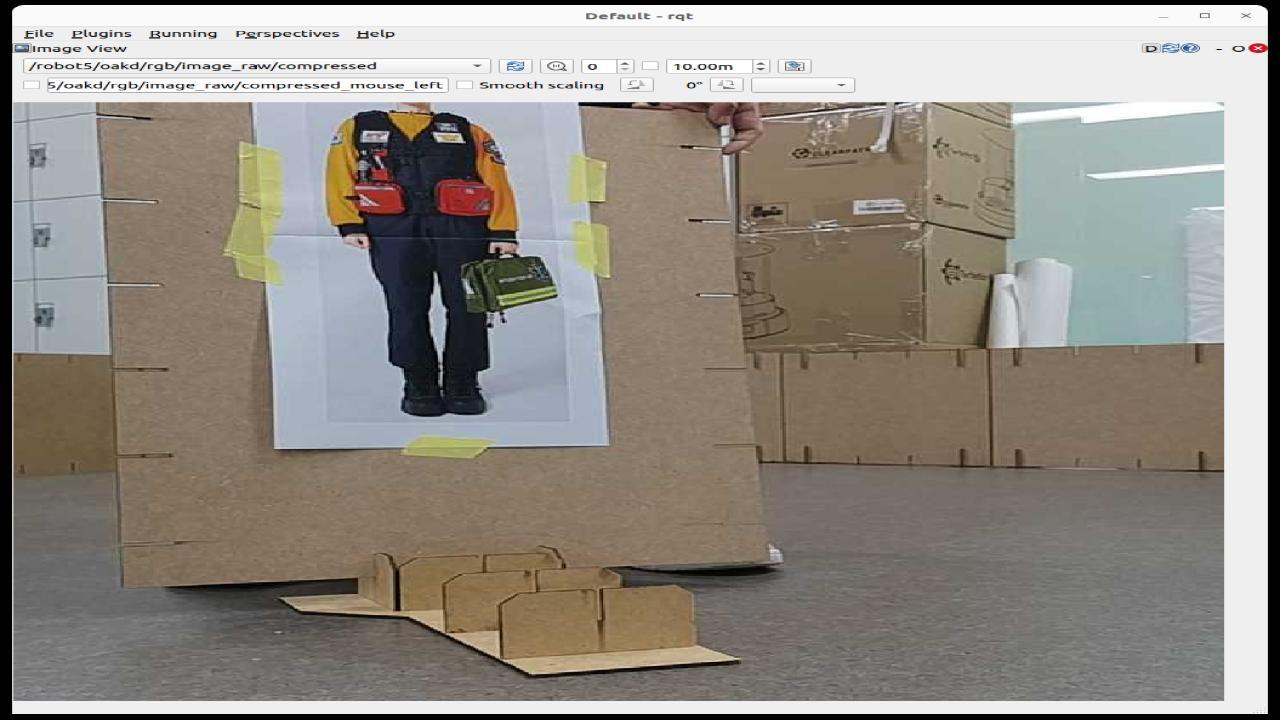Responder: (324, 103, 518, 416)
